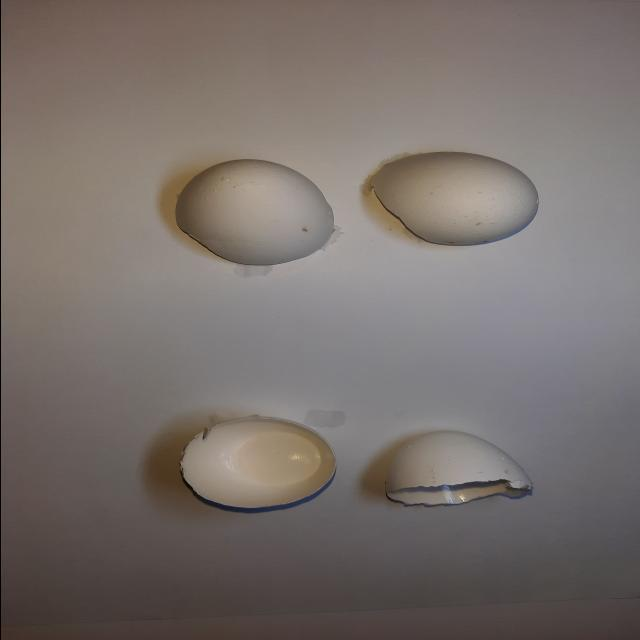egg shell: (363, 150, 541, 250), (174, 157, 334, 268), (178, 416, 344, 517), (384, 426, 536, 514)
